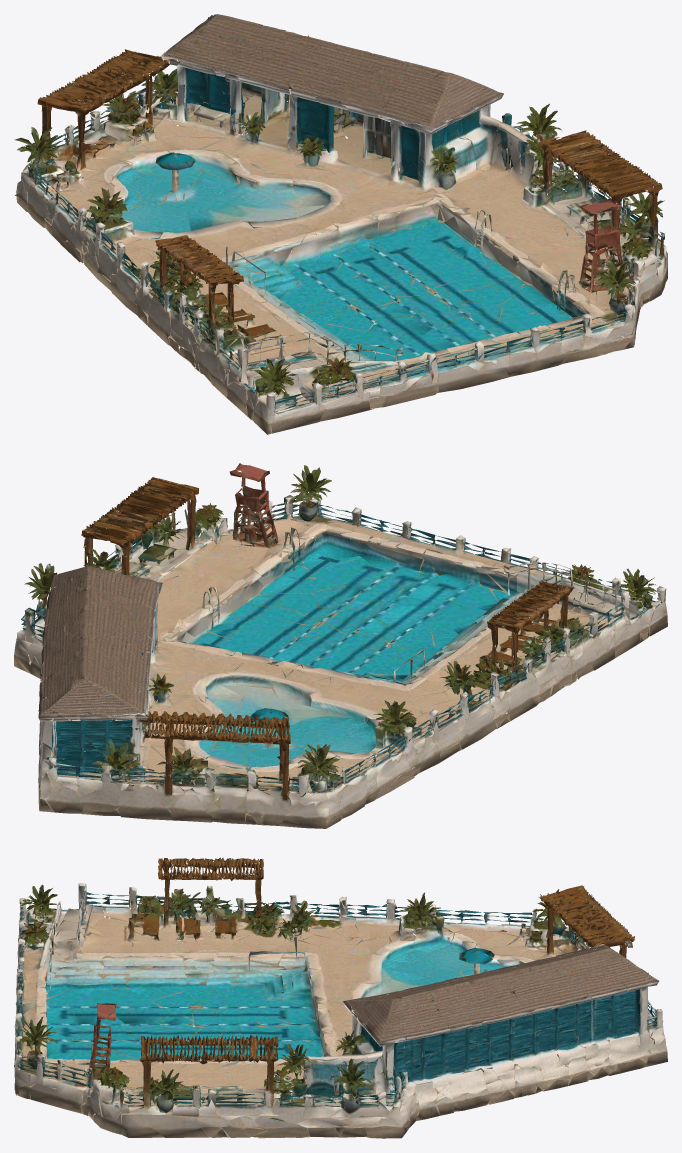
Rendered from pool-complex.glb.
3 views of the same model, one above another, from view 1: azimuth 30°, elevation 25°; view 2: azimuth 150°, elevation 25°; view 3: azimuth 270°, elevation 25° (orthographic). The views are drawn at different scales.
Parts seen in each view (by area): view 1: Mesh_0; view 2: Mesh_0; view 3: Mesh_0.
Boxes of the visible parts, box(x1,y1,x2,y2) form: Mesh_0: box(15, 14, 667, 434); Mesh_0: box(14, 463, 667, 828); Mesh_0: box(14, 857, 667, 1138).
Size of the model in its own units: 1.46 by 0.348 by 1.9.
Materials: 1 (1 with a texture image).
